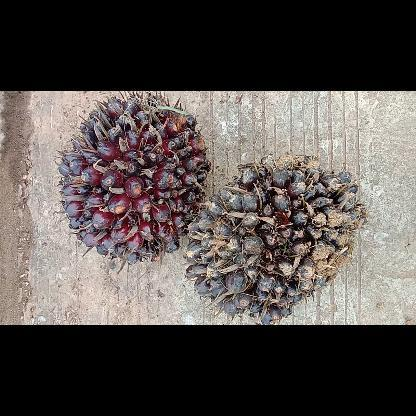TBS mentah: (182, 152, 367, 324), (52, 91, 212, 267)
